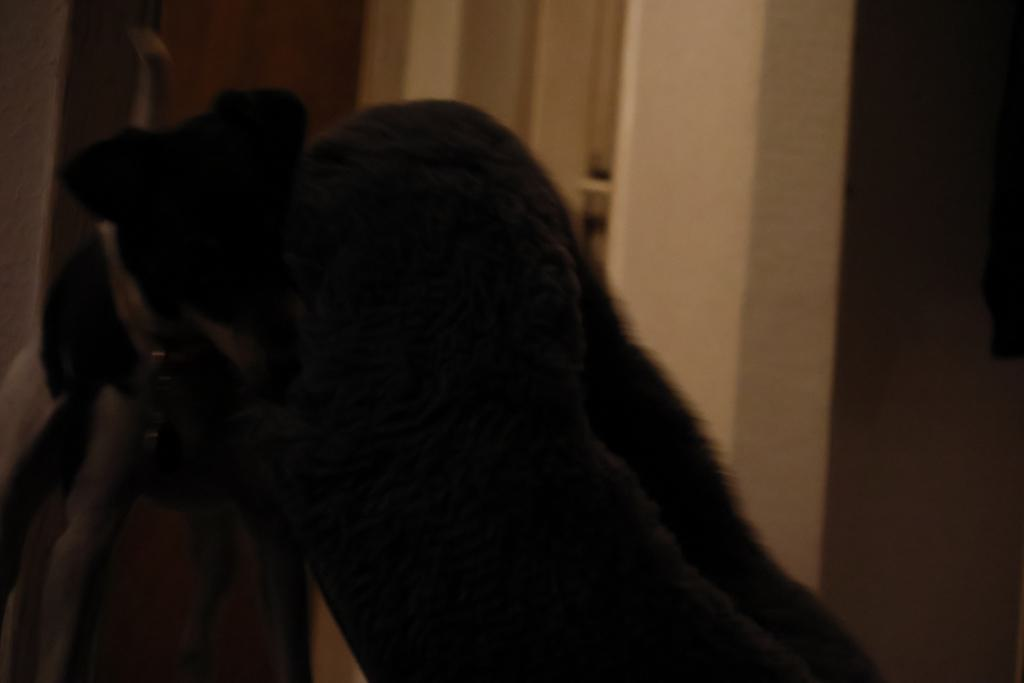Dog: (0, 32, 349, 683)
